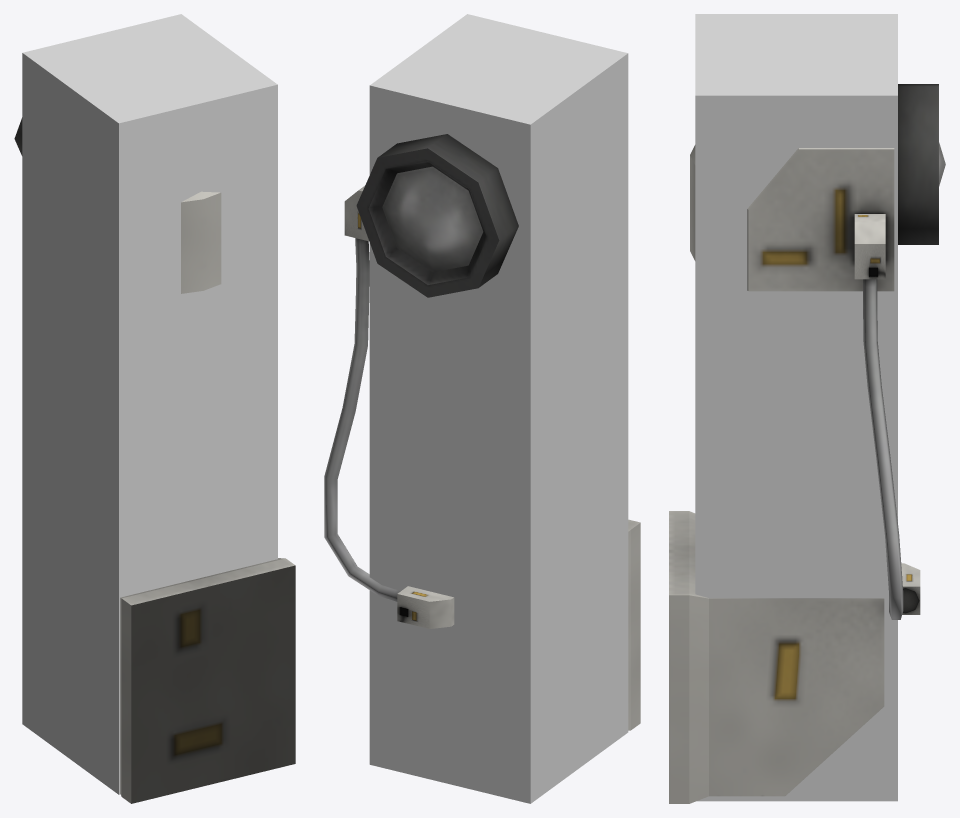
File: Probe_Camera.FBX
3 views of the same model, side by side, from view 1: azimuth 30°, elevation 25°; view 2: azimuth 150°, elevation 25°; view 3: azimuth 270°, elevation 25° (orthographic). The views are drawn at different scales.
Visible parts, largest first — view 1: Probe_Camera_Col, Probe_Camera; view 2: Probe_Camera_Col, Probe_Camera; view 3: Probe_Camera_Col, Probe_Camera.
Boxes of the visible parts, x1=… form: Probe_Camera_Col: x1=22, y1=14, x2=277, y2=794; Probe_Camera: x1=14, y1=117, x2=295, y2=803; Probe_Camera_Col: x1=369, y1=14, x2=628, y2=803; Probe_Camera: x1=324, y1=134, x2=640, y2=730; Probe_Camera_Col: x1=695, y1=14, x2=897, y2=801; Probe_Camera: x1=669, y1=84, x2=945, y2=803.
Size of the model in its own units: 9.96 by 31.21 by 11.09.
Materials: 1 (1 with a texture image).
